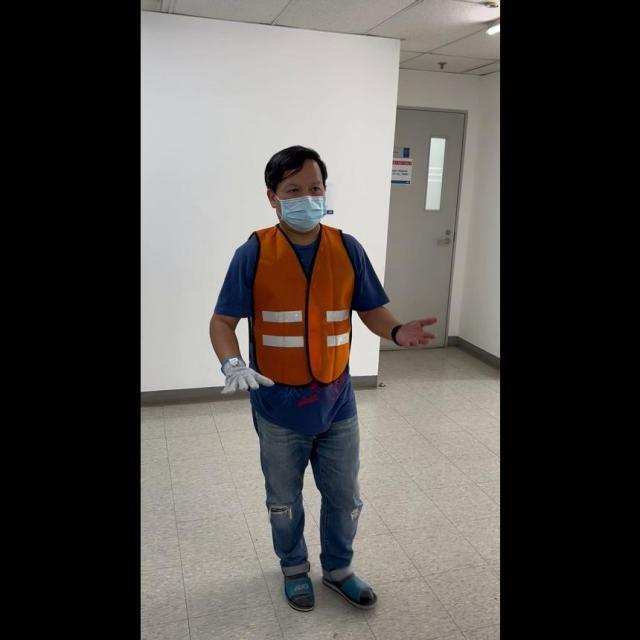bare_hand: (391, 312, 437, 350)
gloved_hand: (216, 350, 274, 398)
